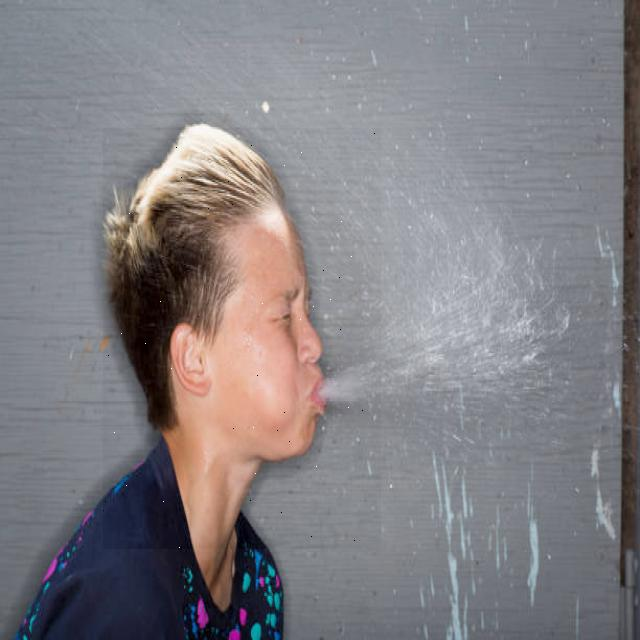Spitting: (103, 128, 381, 549)
